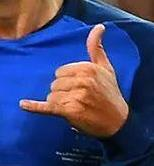clockwise: (17, 21, 118, 131)
